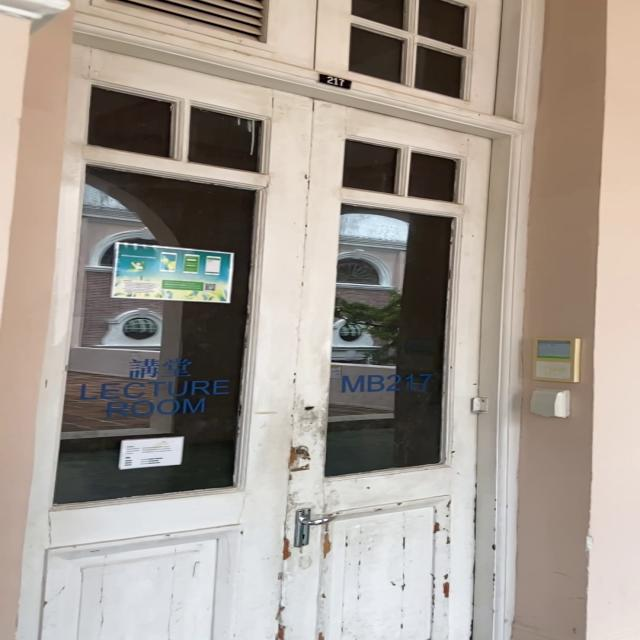room217: (316, 72, 352, 91)
room217Window: (337, 369, 438, 396)
